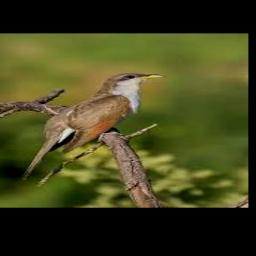Cuckoo: (22, 73, 165, 180)
